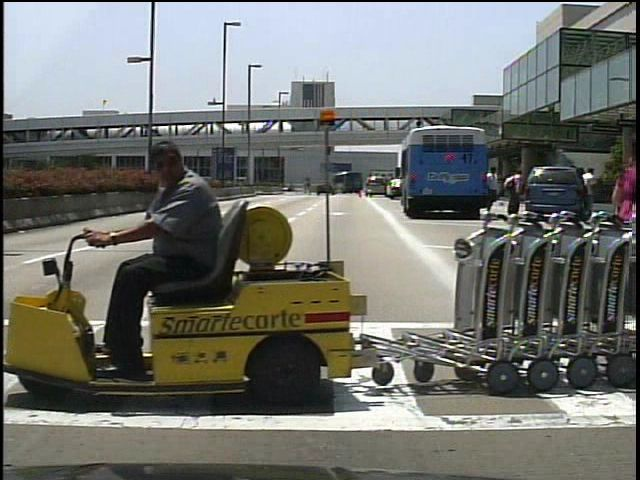person: (112, 137, 231, 377), (600, 119, 637, 350), (481, 164, 503, 216), (505, 166, 525, 218), (580, 165, 601, 214)
